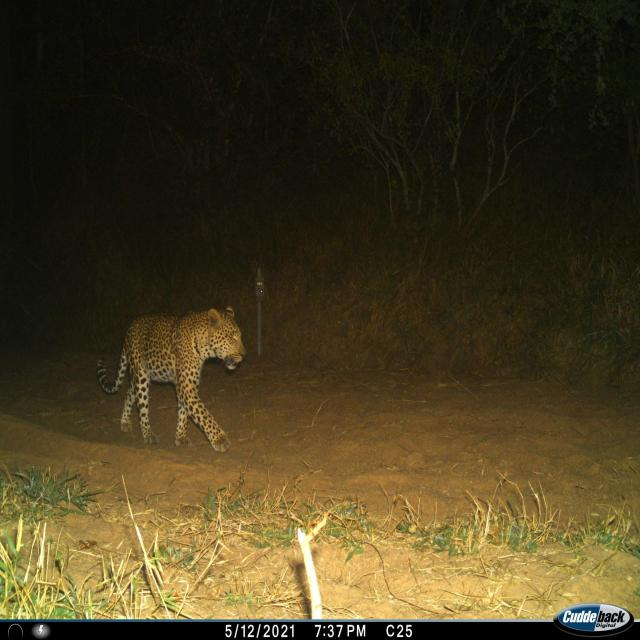Leopard: (100, 294, 250, 455)
